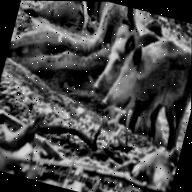boar: (100, 33, 192, 144), (85, 16, 143, 104)
